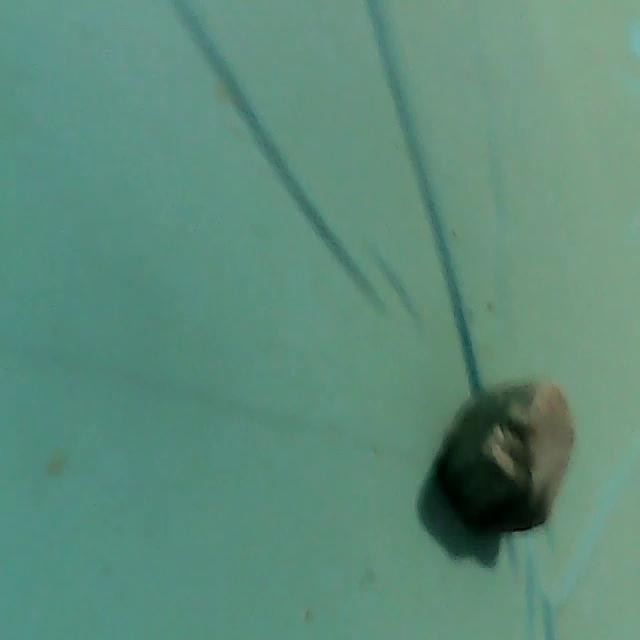rock: (432, 358, 578, 548)
